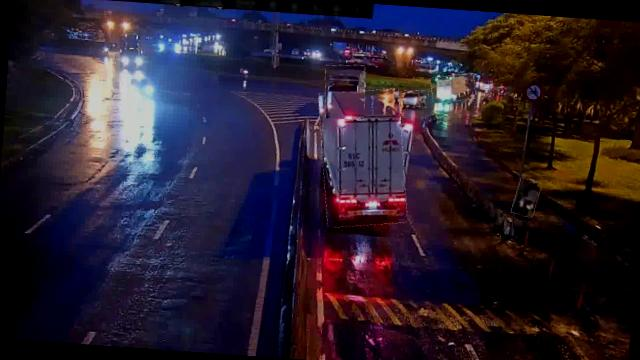Bike: (512, 178, 541, 218)
Car: (400, 89, 428, 108)
Truck: (314, 86, 412, 230), (322, 63, 366, 120), (429, 72, 476, 104)
